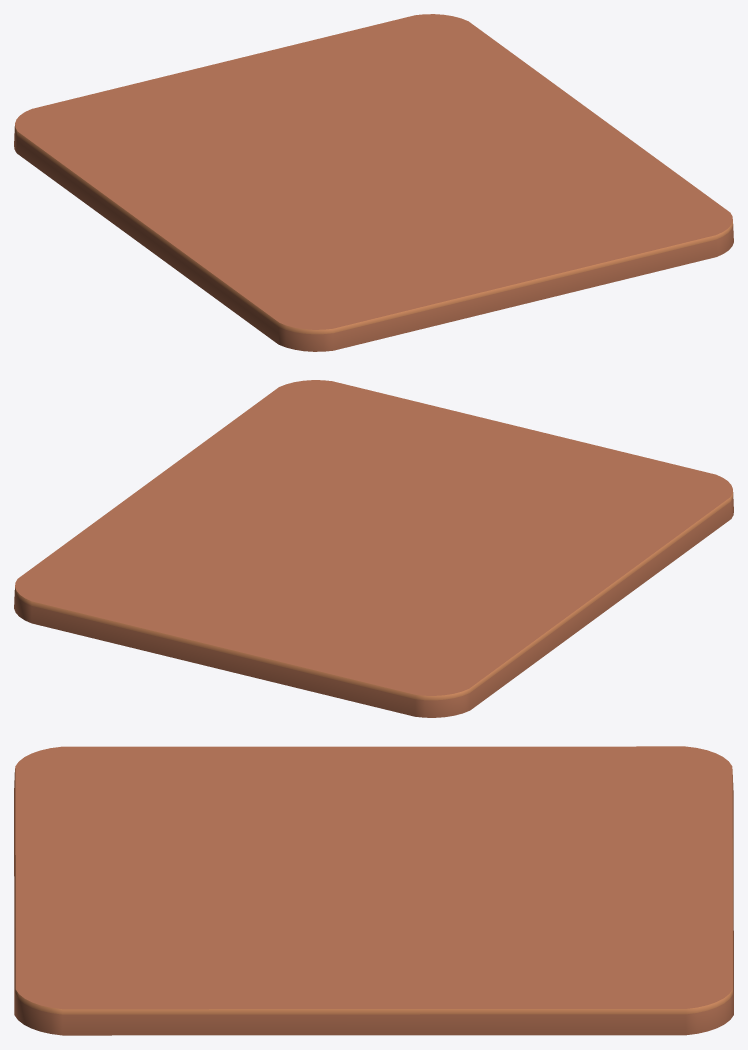
File: Base plate.fbx
3 views of the same model, one above another, from view 1: azimuth 30°, elevation 25°; view 2: azimuth 150°, elevation 25°; view 3: azimuth 270°, elevation 25° (orthographic). The views are drawn at different scales.
Parts seen in each view (by area): view 1: Cube_009; view 2: Cube_009; view 3: Cube_009.
Boxes of the visible parts, x1,y1,x2,y2 form: Cube_009: (14,14,733,351); Cube_009: (14,380,733,717); Cube_009: (14,746,733,1035).
Size of the model in its own units: 5569 by 253 by 6420.
Materials: 1 (1 with a texture image).
